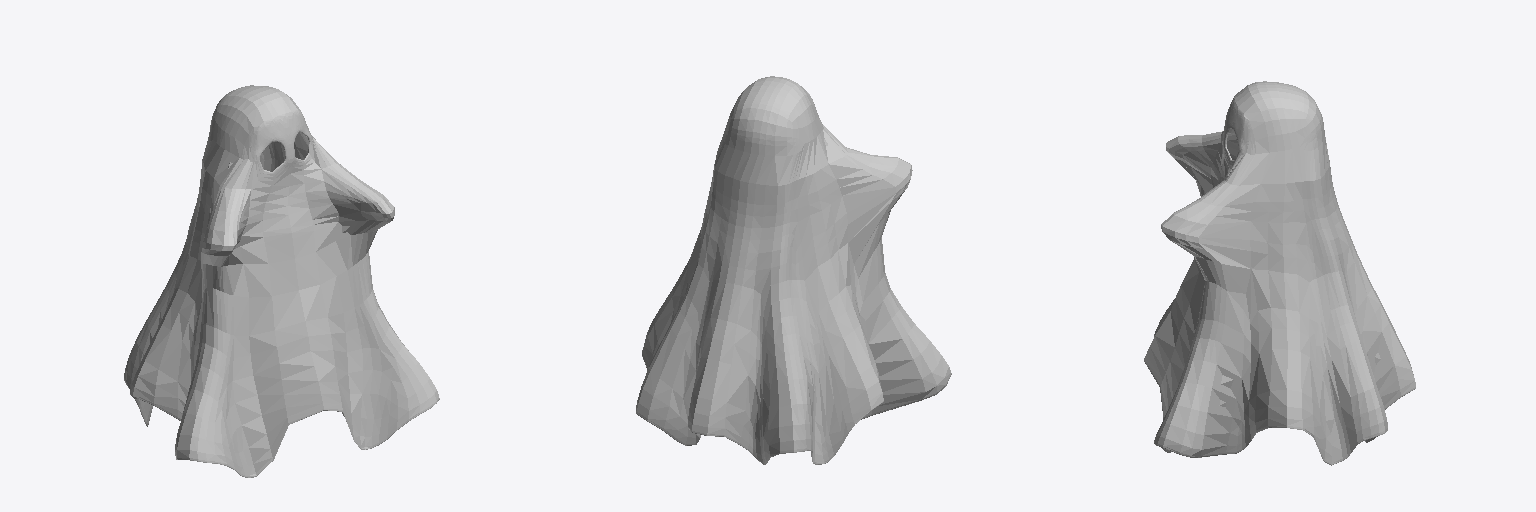
The picture shows the model from 3 angles: view 1: azimuth 30°, elevation 25°; view 2: azimuth 150°, elevation 25°; view 3: azimuth 270°, elevation 25°; orthographic projection.
Parts seen in each view (by area): view 1: youlinguu2:Group3 walk1; view 2: youlinguu2:Group3 walk1; view 3: youlinguu2:Group3 walk1.
Boxes of the visible parts, box(x1,y1,x2,y2) form: youlinguu2:Group3 walk1: box(124, 85, 439, 477); youlinguu2:Group3 walk1: box(636, 76, 951, 464); youlinguu2:Group3 walk1: box(1144, 81, 1415, 465).
Bounding box in the file's own units: 31.62 × 39.82 × 29.09.